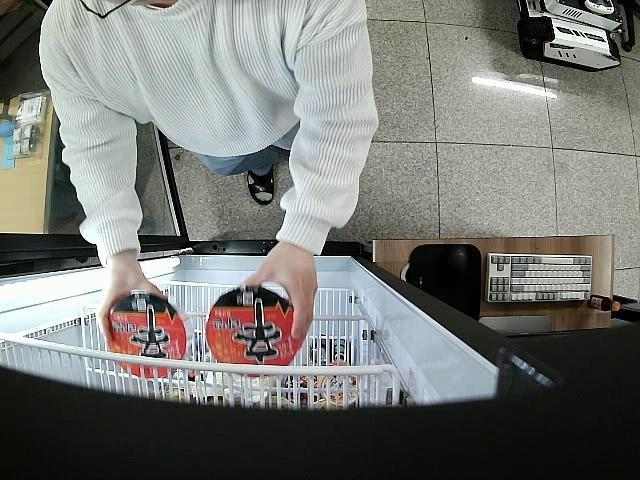01_ShinRamen_L: (206, 286, 304, 381), (106, 292, 196, 380)
